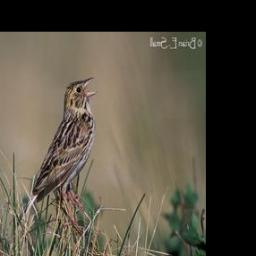Sparrow: (13, 73, 100, 237)
